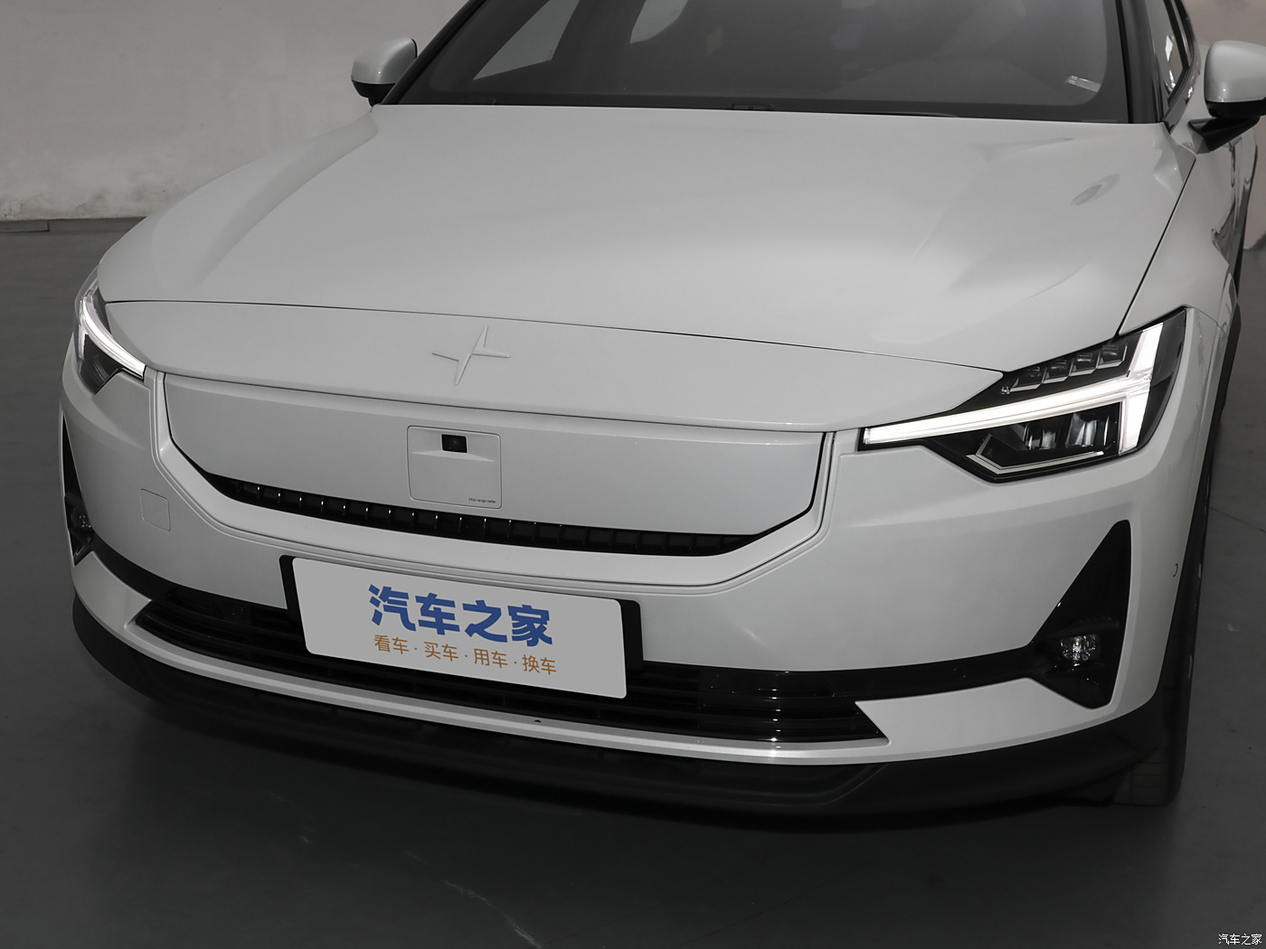Polestar: (432, 326, 510, 385)
